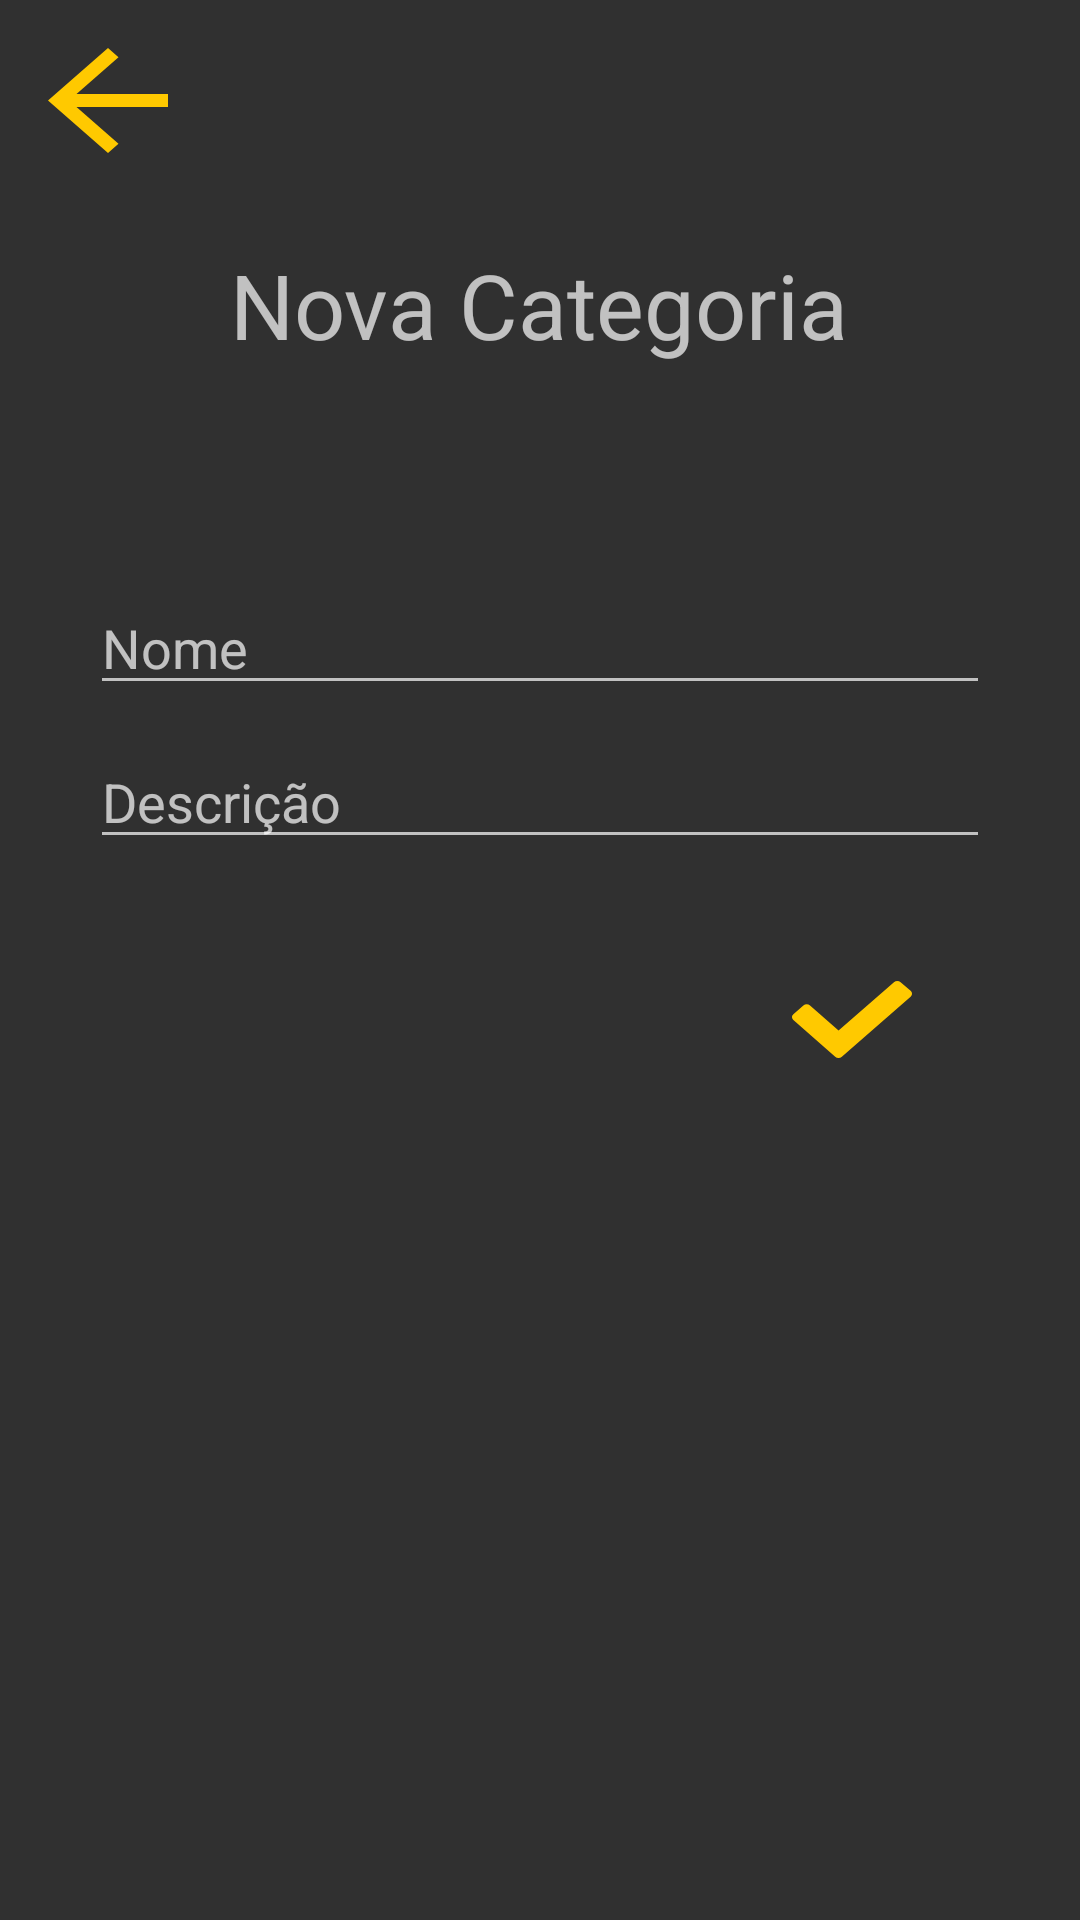

Locate icon controls on the screen. Image size 1080*1920, boxes as (x1, y1, x2, y2).
confirm: (792, 981, 912, 1058)
go back left arrow: (48, 48, 168, 153)
